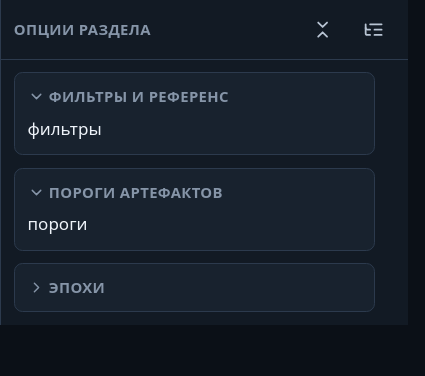
хедер панели: триггер «все секции» › второй клик той же кнопки разворачивает все, включая свёрнутые по умолчанию
Step 1. Click the button named "Свернуть все секции" → (323, 29), box [302,8,344,50]
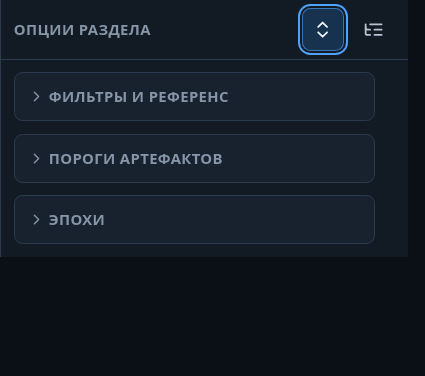
Step 2. Click the button named "Развернуть все секции" → (323, 29), box [302,8,344,50]
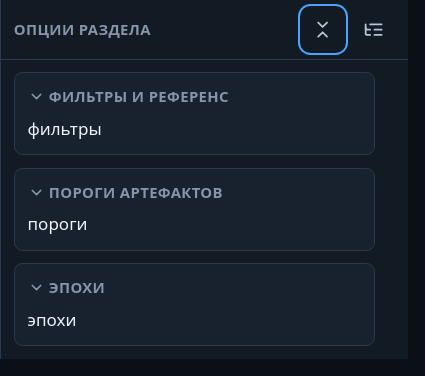
Check: the button "Фильтры и референс" is expanded, box [28,86,353,107]
Check: the button "Пороги артефактов" is expanded, box [28,182,353,203]
Check: the button "Эпохи" is expanded, box [28,277,353,298]
